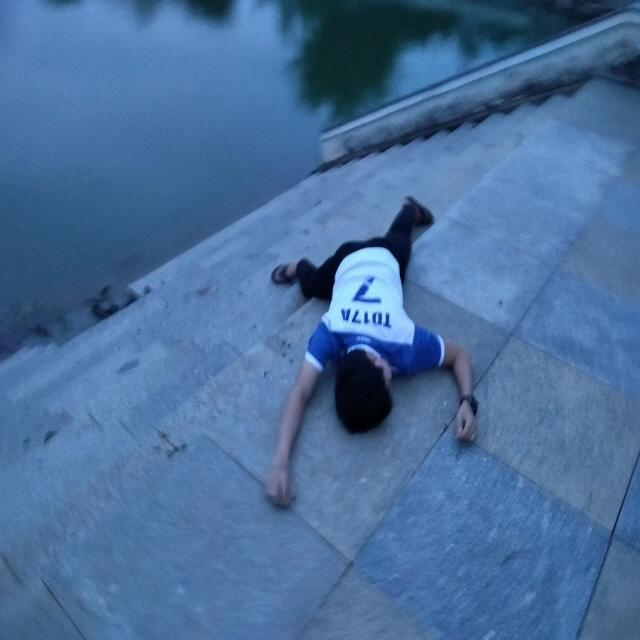Fall: (268, 196, 479, 508)
